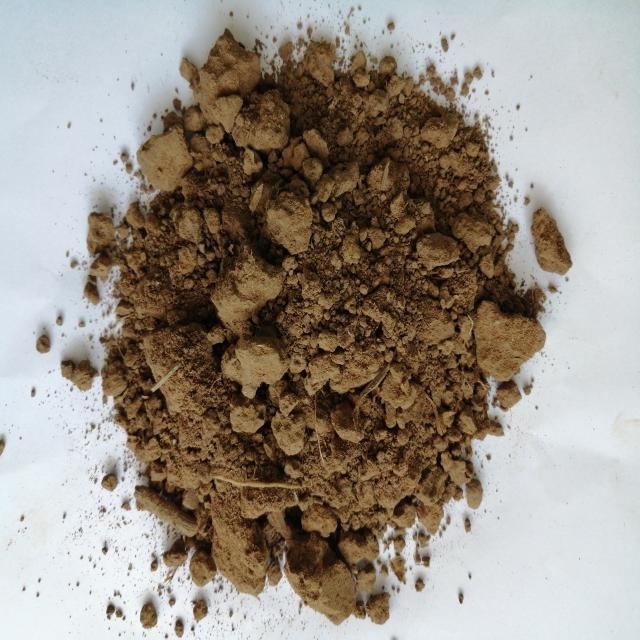soil: (173, 153, 446, 514)
